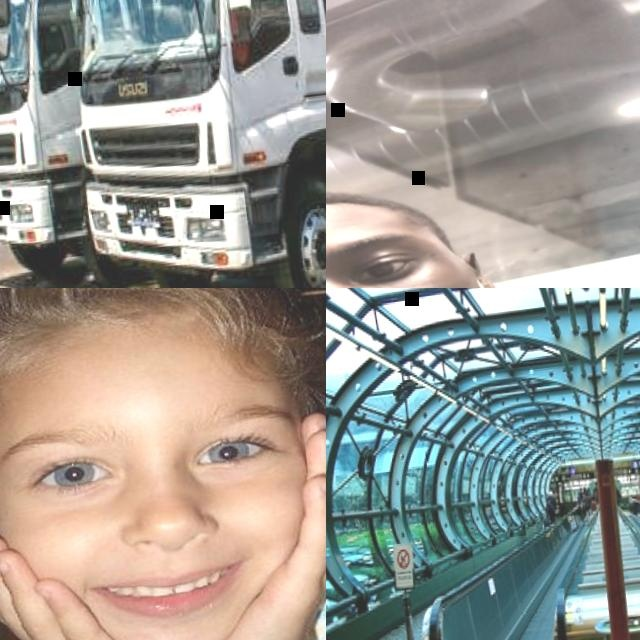NO-Hardhat: (0, 288, 301, 439), (326, 171, 438, 277), (550, 491, 555, 497), (586, 489, 589, 494)
NO-Mask: (0, 464, 326, 640)
NO-Safety Vest: (0, 449, 326, 640), (548, 496, 558, 510), (584, 494, 593, 508)
Person: (0, 288, 326, 640), (326, 136, 640, 288), (545, 490, 560, 522), (582, 487, 593, 514)
machinery: (49, 0, 326, 288), (0, 0, 129, 288)
